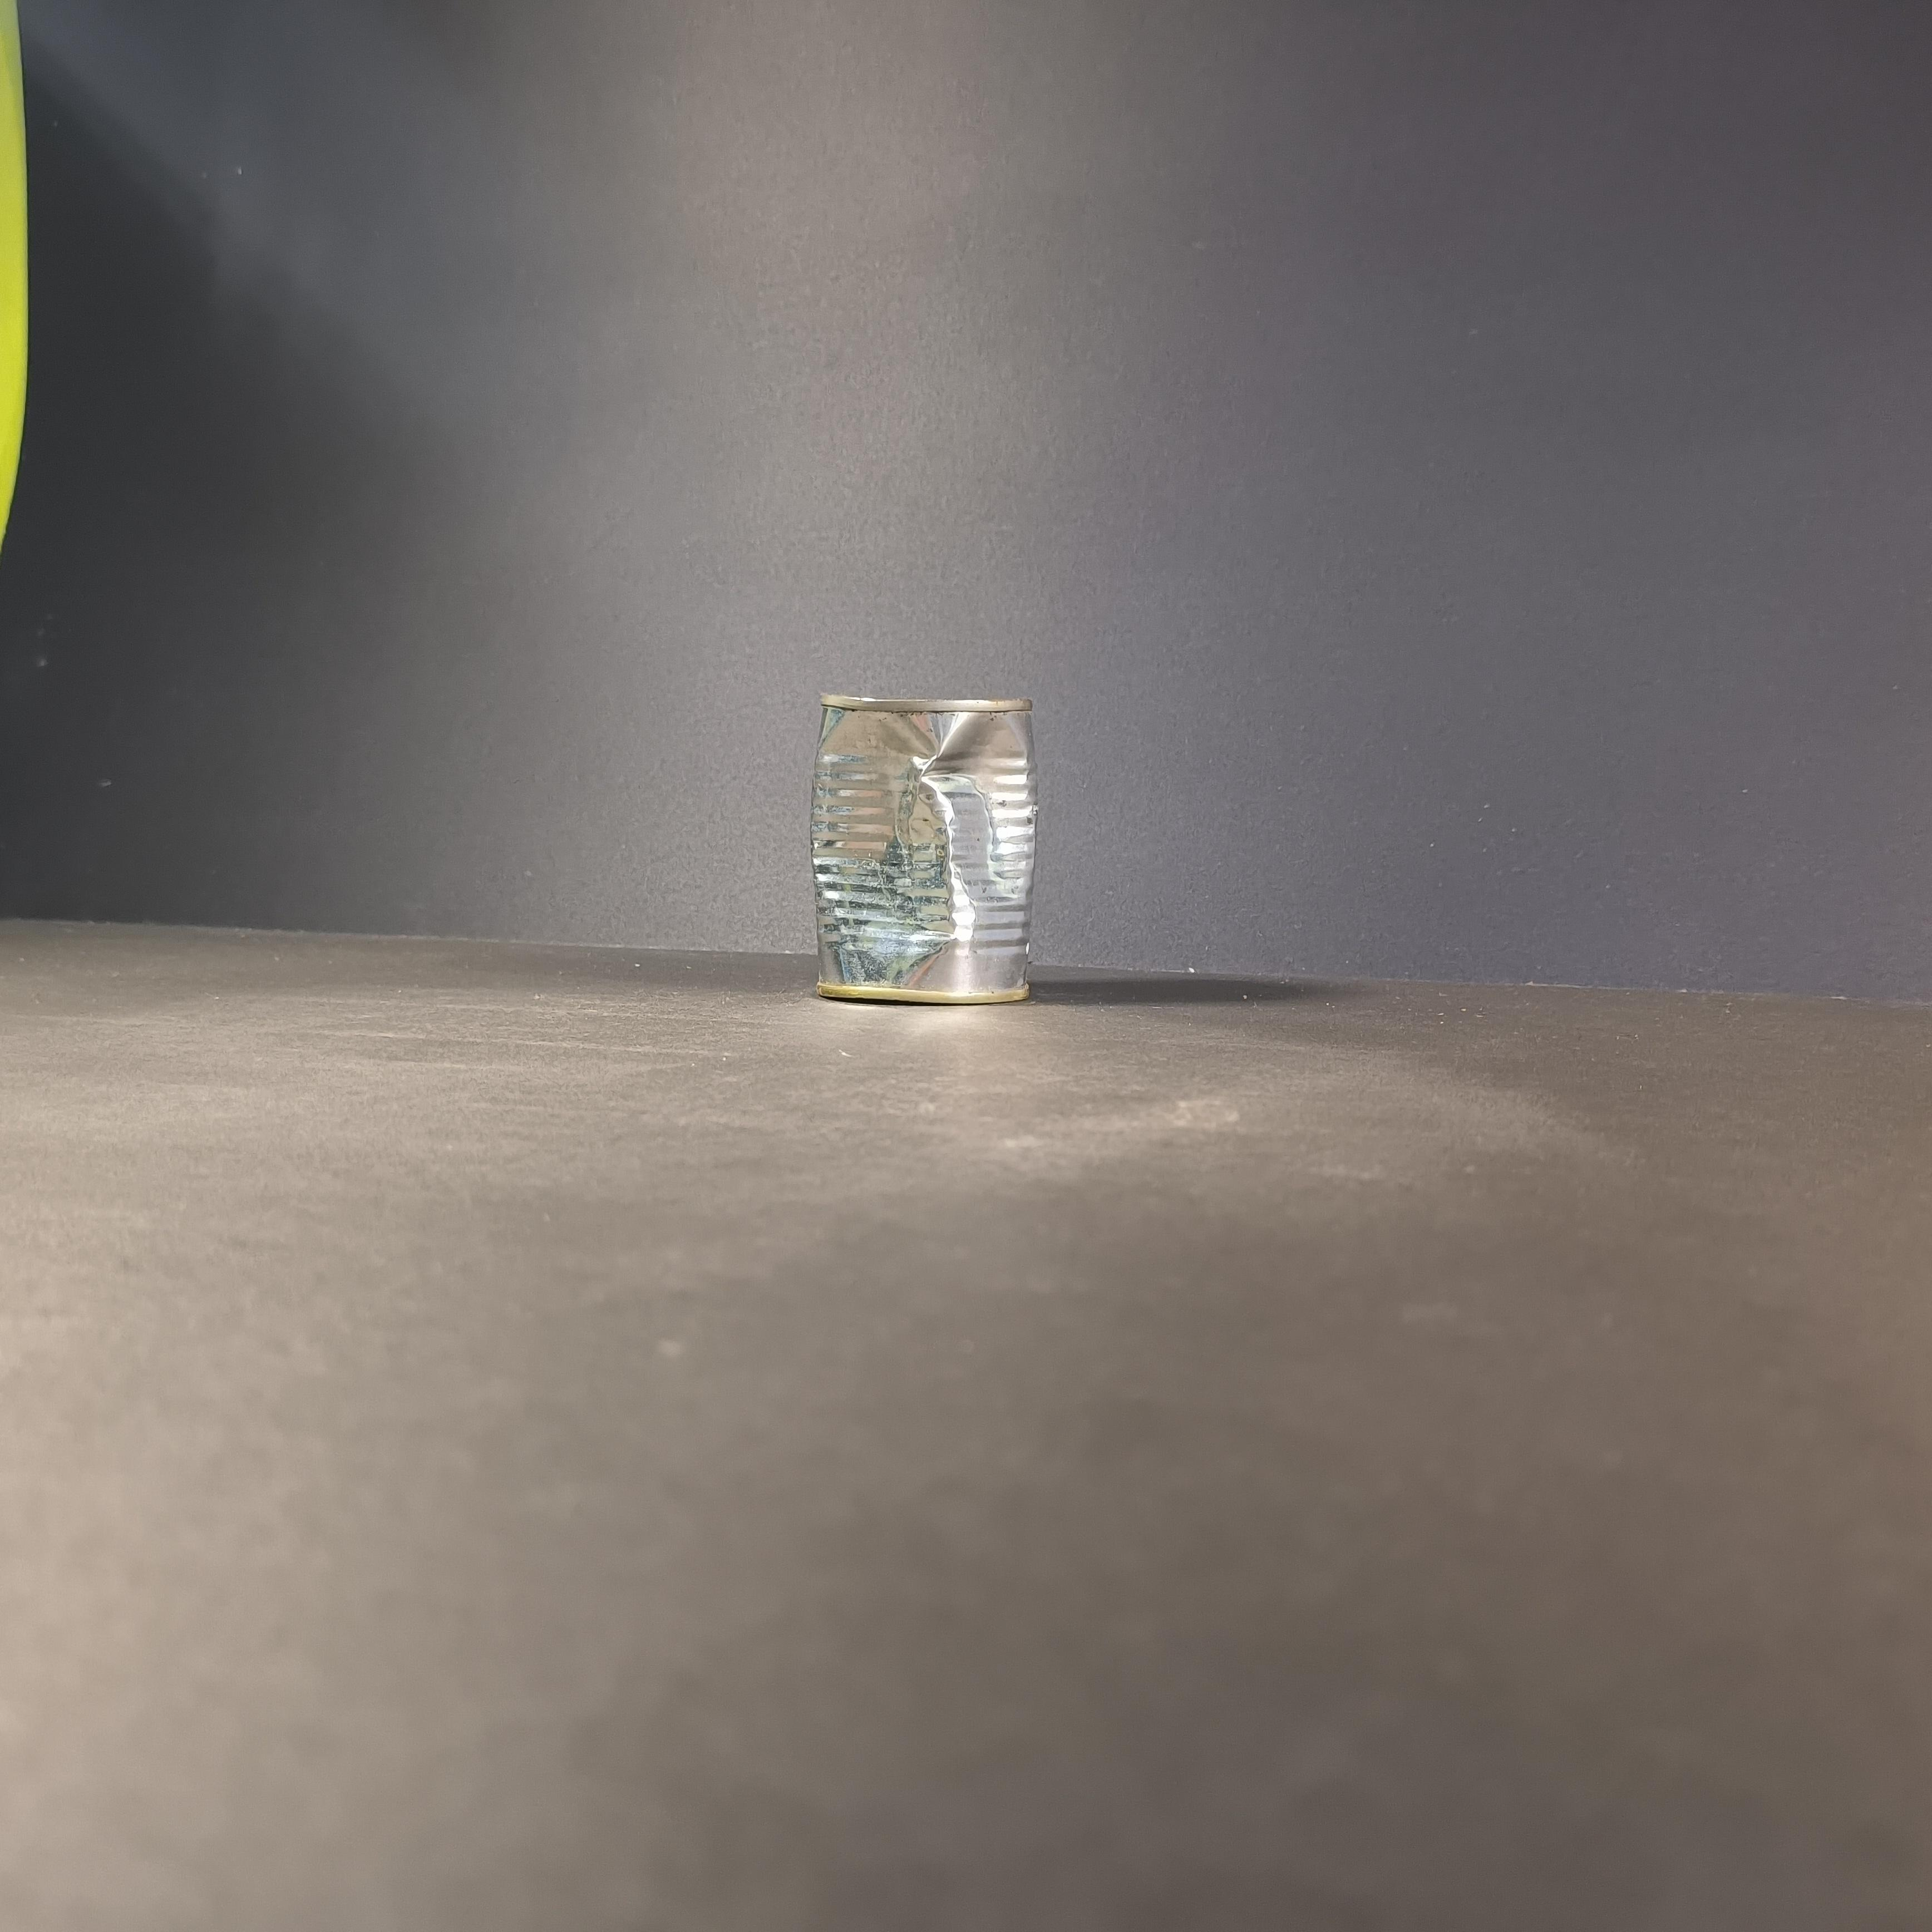Dented: (796, 674, 1044, 1019)
